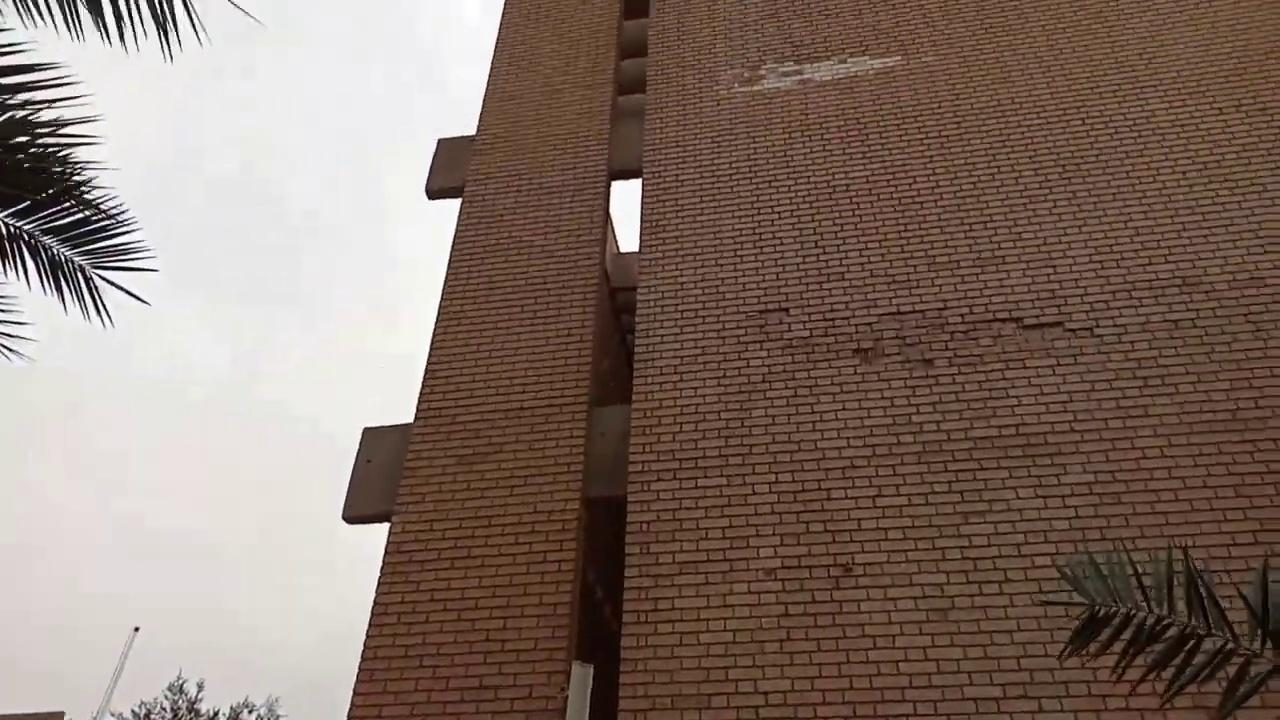tree: (0, 0, 265, 364), (1032, 537, 1278, 718), (109, 667, 283, 719)
